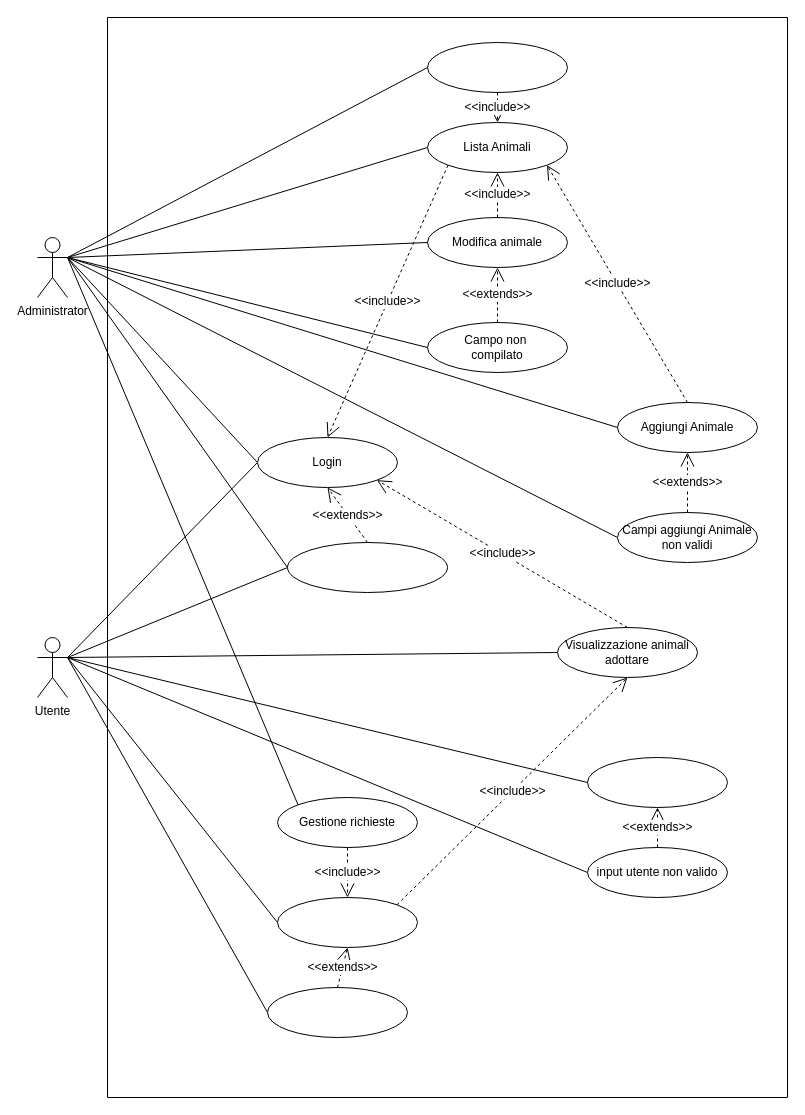
Some shapes in this 805 by 1115 pixel diagram are drawn without their labels. The box of each missing label's shape, as (x1, y1, x2, y2) in pixels:
credenziali login non valide: (286, 542, 448, 592)
Elimina animale: (426, 42, 568, 92)
Informazioni modulo vuote: (266, 986, 408, 1038)
Registrazione Utente: (586, 756, 728, 808)
Richiesta adozione: (276, 896, 418, 948)
